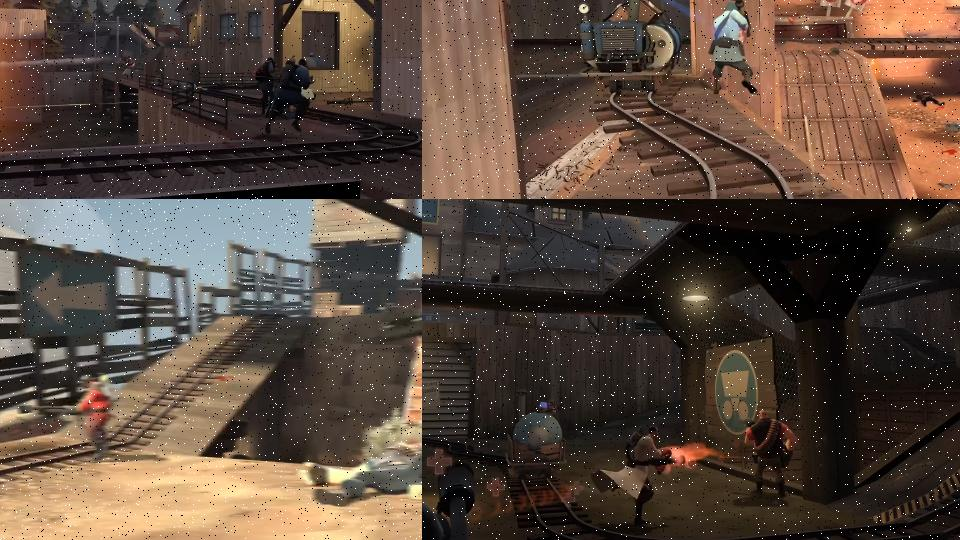Enemy: (590, 427, 687, 525), (18, 373, 114, 460), (701, 0, 762, 100), (744, 411, 797, 499), (264, 54, 318, 136), (255, 56, 281, 117), (910, 89, 948, 108), (121, 55, 137, 80)
